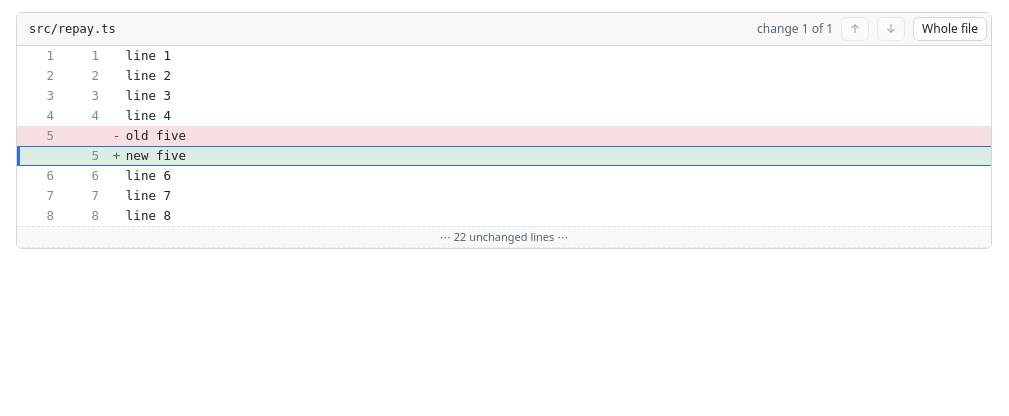
it: CodeView: commenting on lines › each line number is a button; a click opens the composer with a line target
Expected: the text "new five" is shown, [126, 148, 186, 163]
What coordinates should you click on to do the following:
click the button "5" next to "new five"
I would click on:
 (84, 156)
Its box is [62, 146, 107, 166].
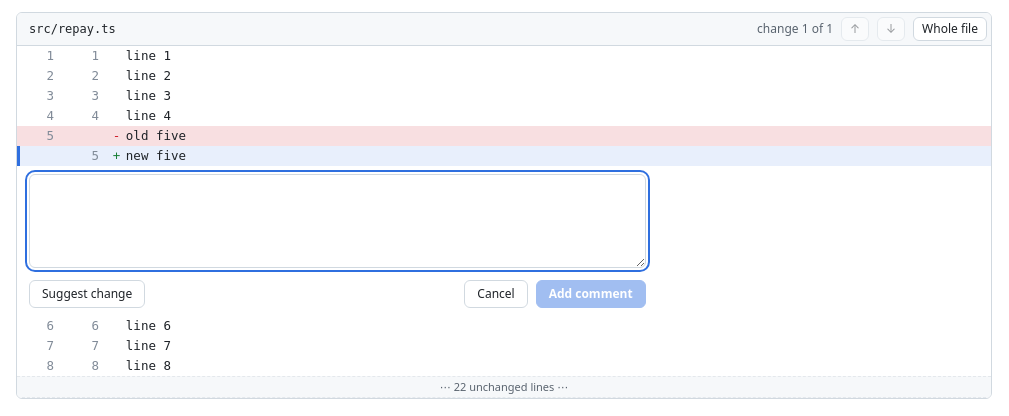
Now the button "Suggest change" is shown, box [29, 280, 145, 308]
